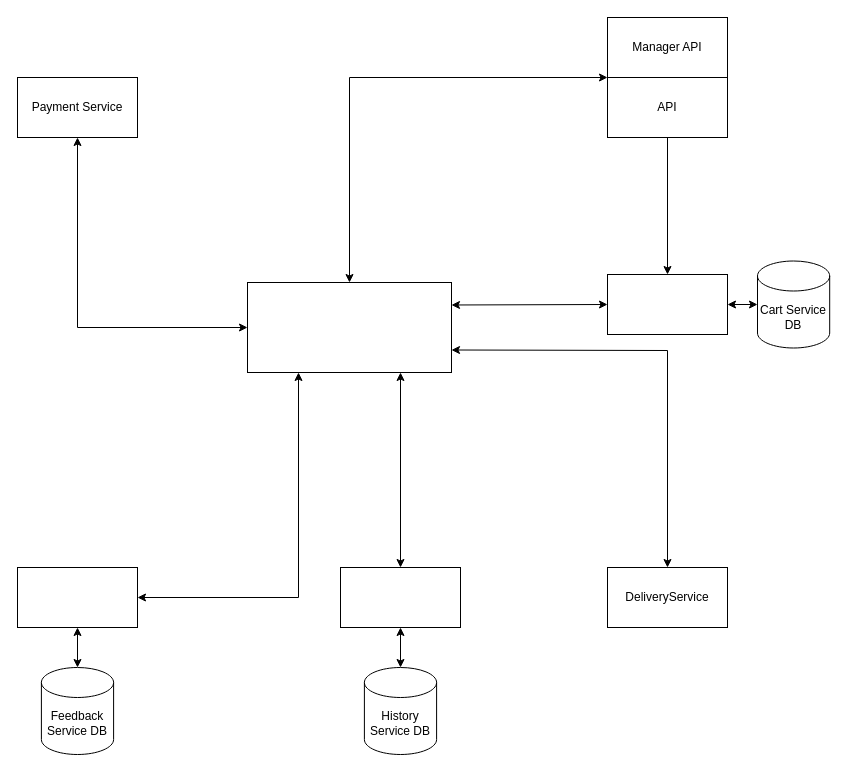
This 848x772 diagram has some shape labels left out. Here are the shapes that lost their labels. From the top down, the centre of each, then its label:
At point (667, 304): "Cart Service".
At point (349, 327): "OrderOrchestratorService".
At point (77, 597): "Feedback Service".
At point (400, 597): "History Service".
